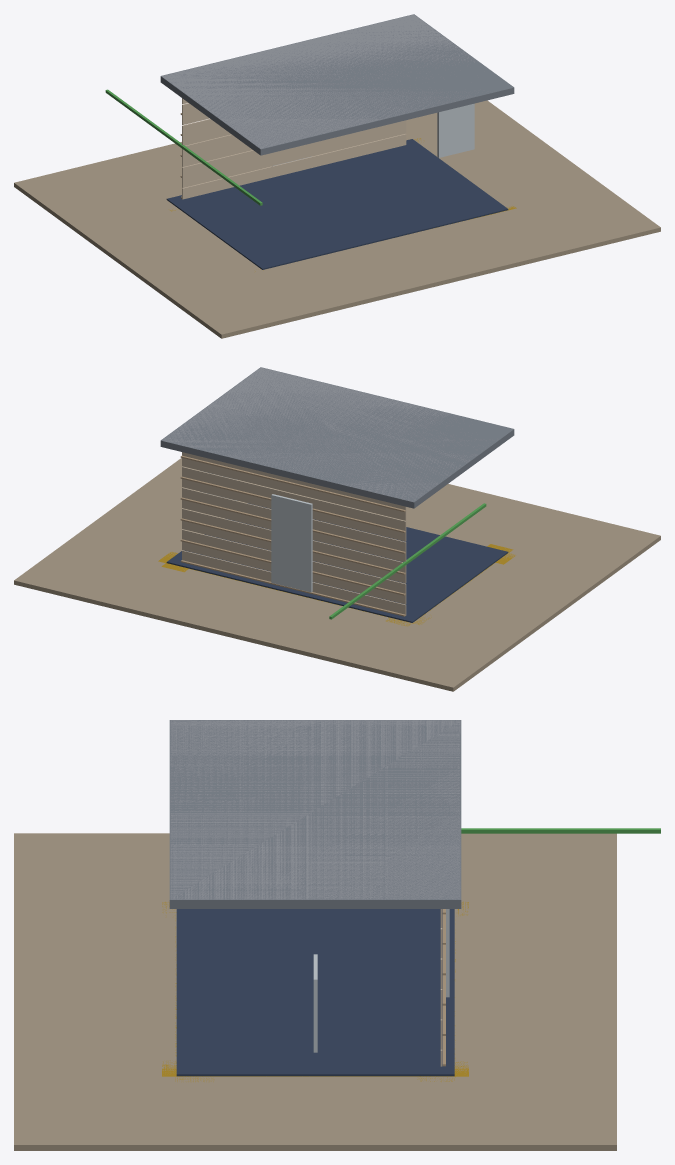
Rendered from stage_08_bands.glb.
The picture shows the model from 3 angles, top to bottom: view 1: azimuth 30°, elevation 25°; view 2: azimuth 150°, elevation 25°; view 3: azimuth 270°, elevation 25°; orthographic projection. The views are drawn at different scales.
Visible parts, largest first — view 1: world; view 2: world; view 3: world.
Part boxes in pixels (x1,y1,x2,y2): world: [14, 14, 660, 338]; world: [14, 367, 660, 691]; world: [14, 720, 660, 1150].
Bounding box in the file's own units: 11 × 3.75 × 9.65.
